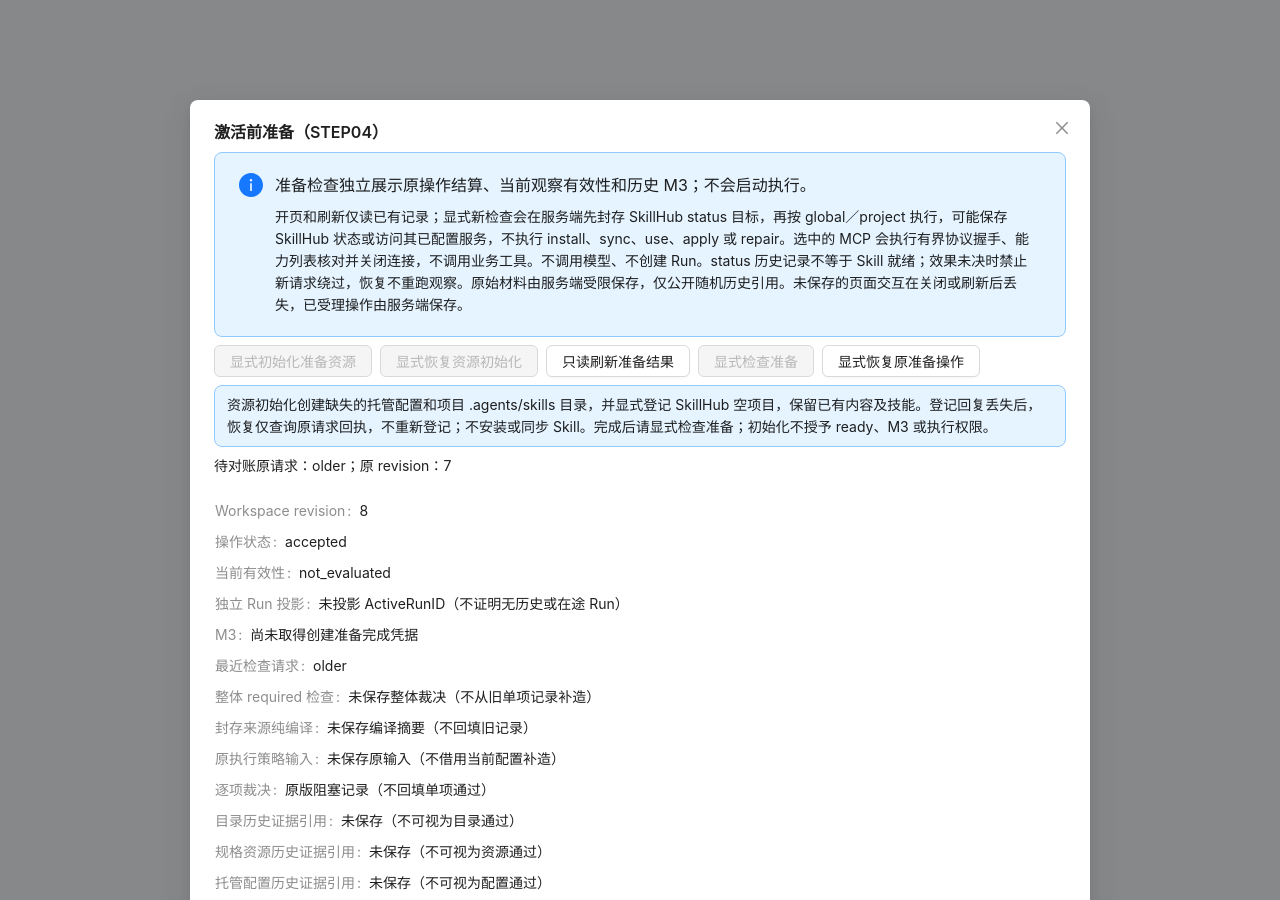
Test case: STEP04 准备主体流程 › 原操作完成而其他页面已有新未决操作时，继续锁定并恢复服务端最新身份
Click the button "显式恢复原准备操作": [901, 361] box left=822, top=345, right=980, bottom=377
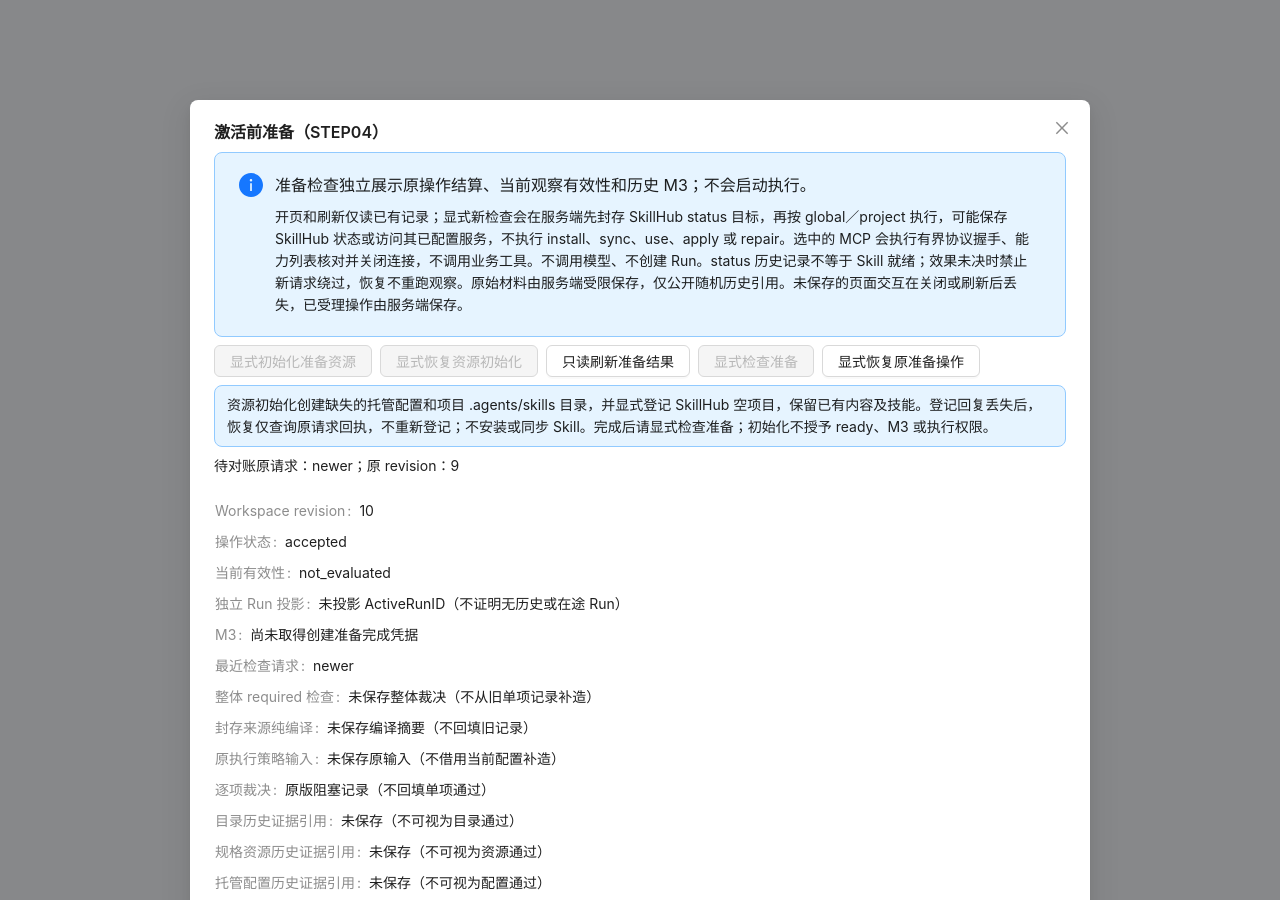
Expected: the button "显式检查准备" is disabled, left=698, top=345, right=814, bottom=377
Expected: the text "待对账原请求：newer；原 revision：9" is shown, left=214, top=457, right=459, bottom=474
